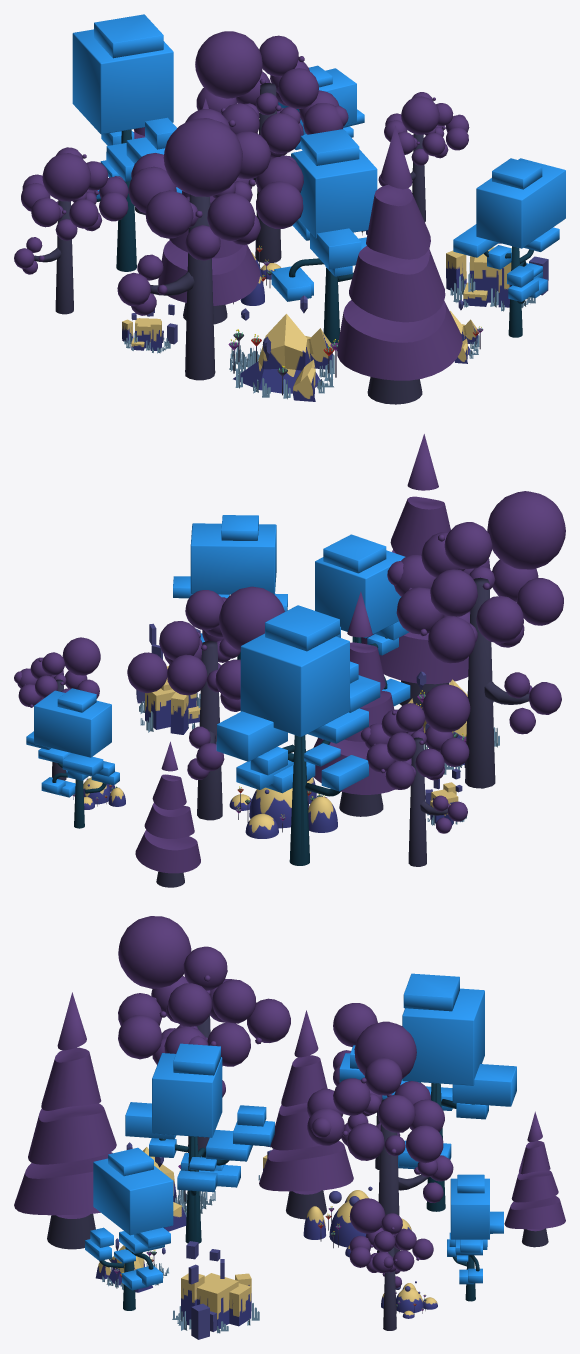
The model's file is nature_cluster_1.glb.
3 renders of one model, top to bottom at view 1: azimuth 30°, elevation 25°; view 2: azimuth 150°, elevation 25°; view 3: azimuth 270°, elevation 25°, orthographic. The views are drawn at different scales.
Visible parts, largest first — view 1: Circle_Tree_2.007; view 2: Circle_Tree_2.007; view 3: Circle_Tree_2.007.
Boxes of the visible parts, x1,y1,x2,y2 form: Circle_Tree_2.007: (14,14,565,404); Circle_Tree_2.007: (14,434,565,887); Circle_Tree_2.007: (14,916,565,1339).
Bounding box in the file's own units: 69.42 × 40.63 × 79.46.
Materials: 16 (3 with a texture image).
